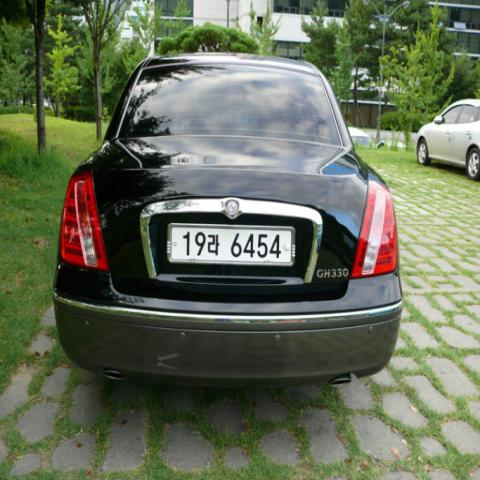LP: (162, 221, 298, 274)
